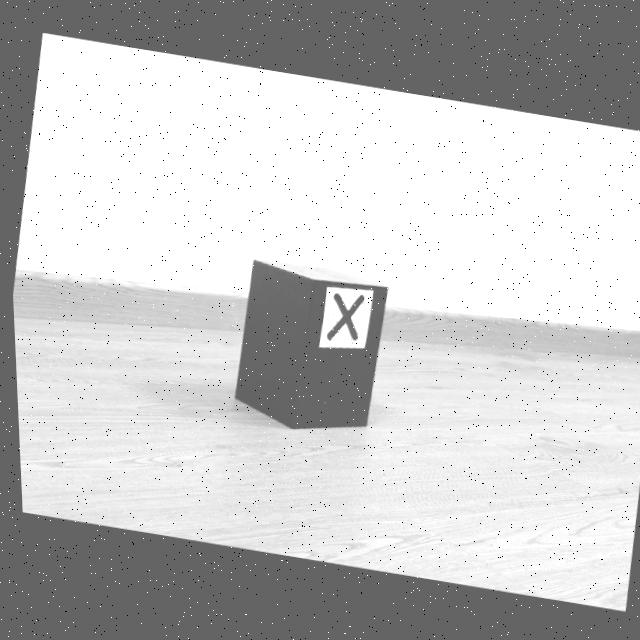X: (324, 293, 363, 342)
